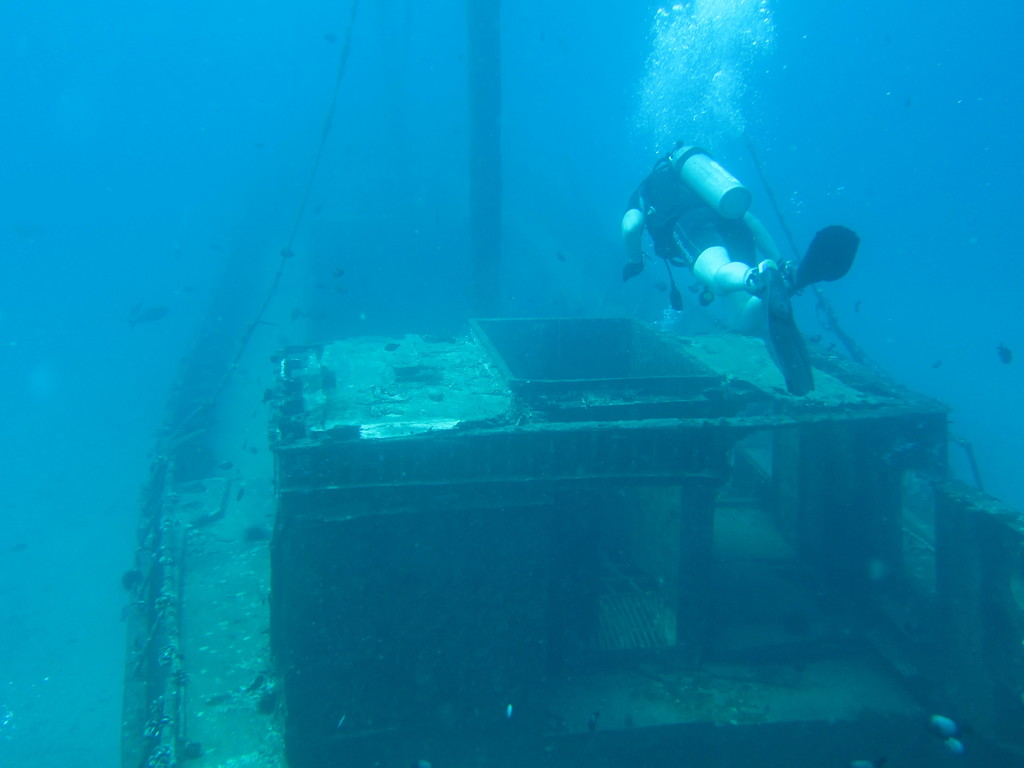Person: (621, 140, 861, 397)
